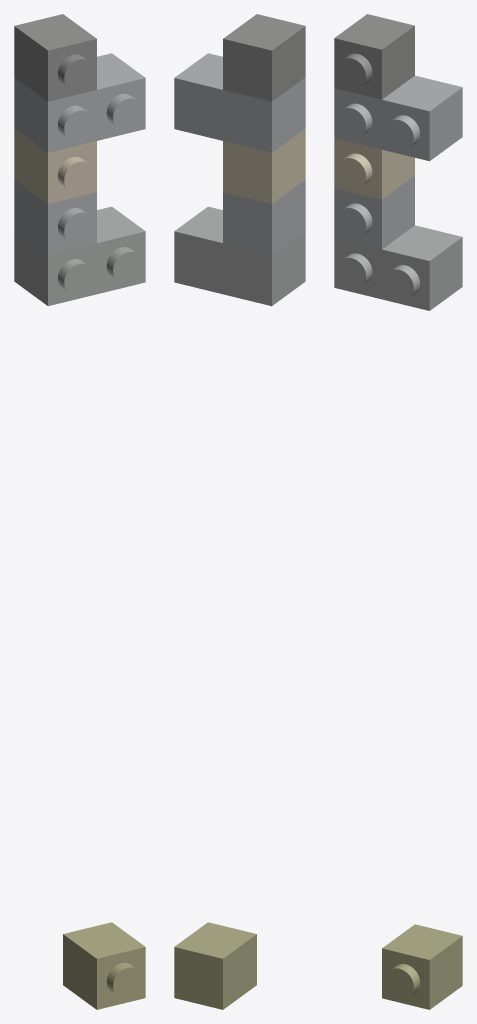
File: current.glb
The picture shows the model from 3 angles, left to right: view 1: azimuth 30°, elevation 25°; view 2: azimuth 150°, elevation 25°; view 3: azimuth 330°, elevation 25°; orthographic projection. The views are drawn at different scales.
Parts seen in each view (by area): view 1: world; view 2: world; view 3: world.
Part boxes in pixels (x1,y1,x2,y2): world: [14, 14, 145, 1009]; world: [174, 14, 305, 1009]; world: [334, 14, 462, 1009].
Bounding box in the file's own units: 16 × 152 × 11.4.
